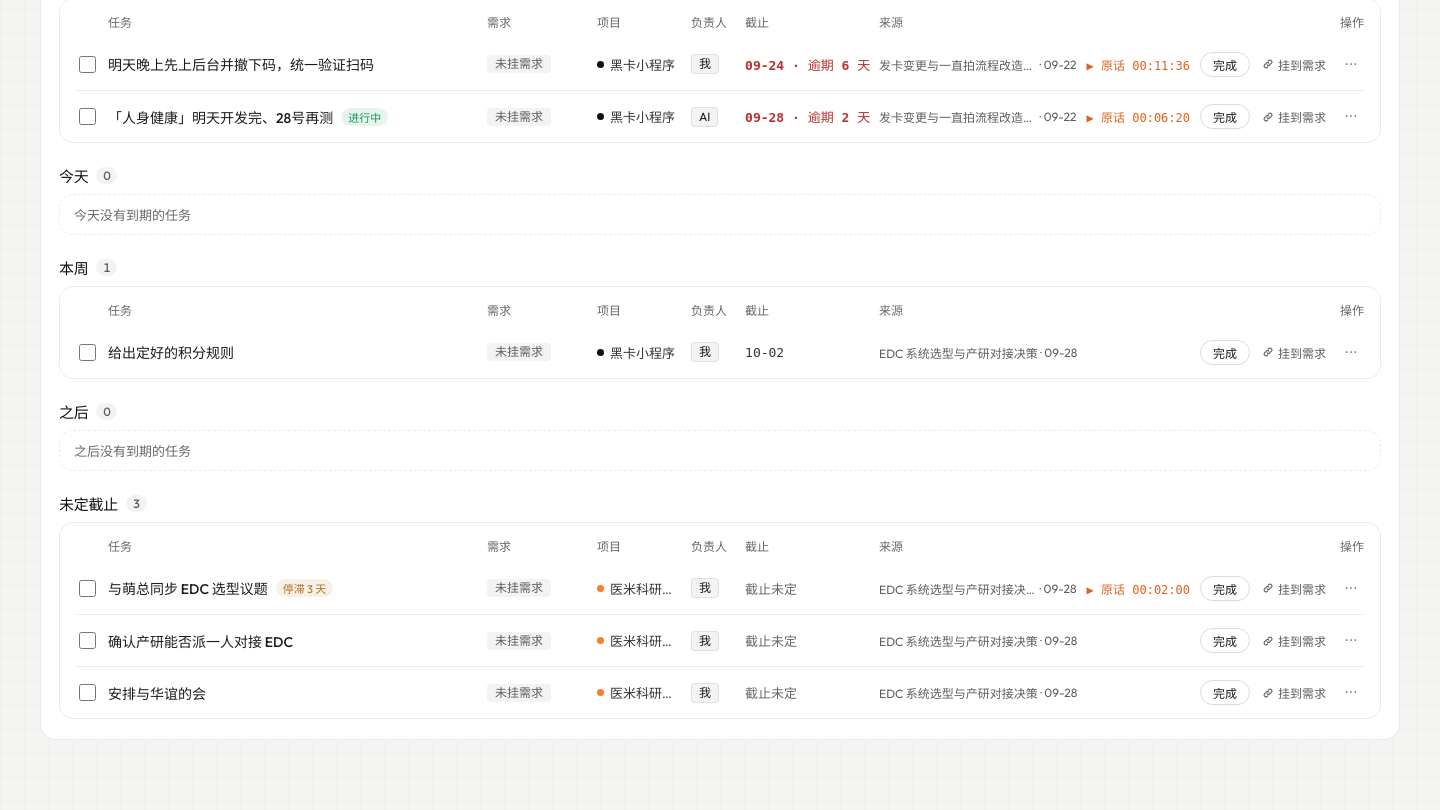
待办：完成与撤销 › 超过 10 分钟撤不了时提示原因，任务仍是已完成
(page scrolled)
Click the button with aria-label "完成「" at (1225, 692), box [1200,680,1250,705]
(page scrolled)
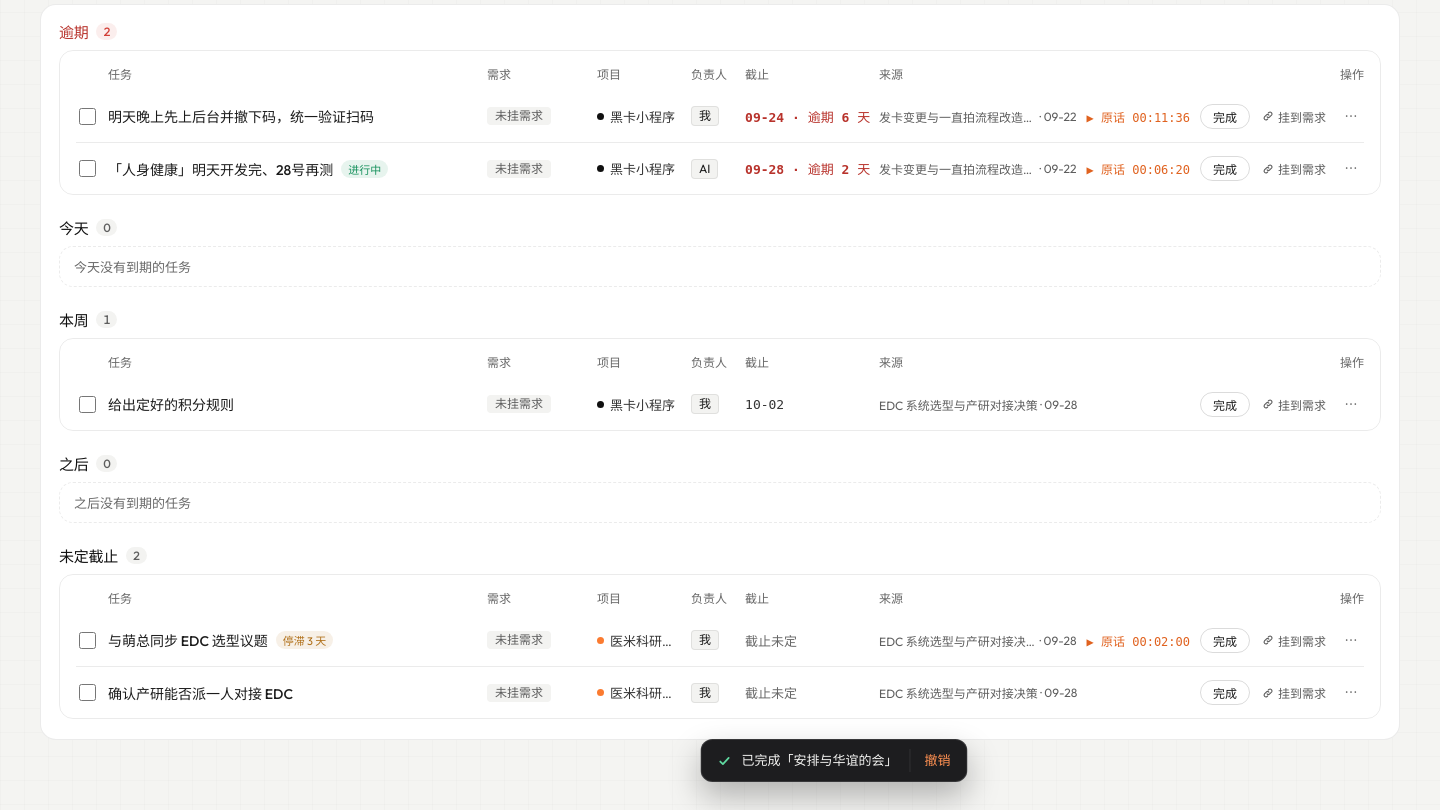
Click the button "撤销" at (934, 761), box [910,749,958,772]
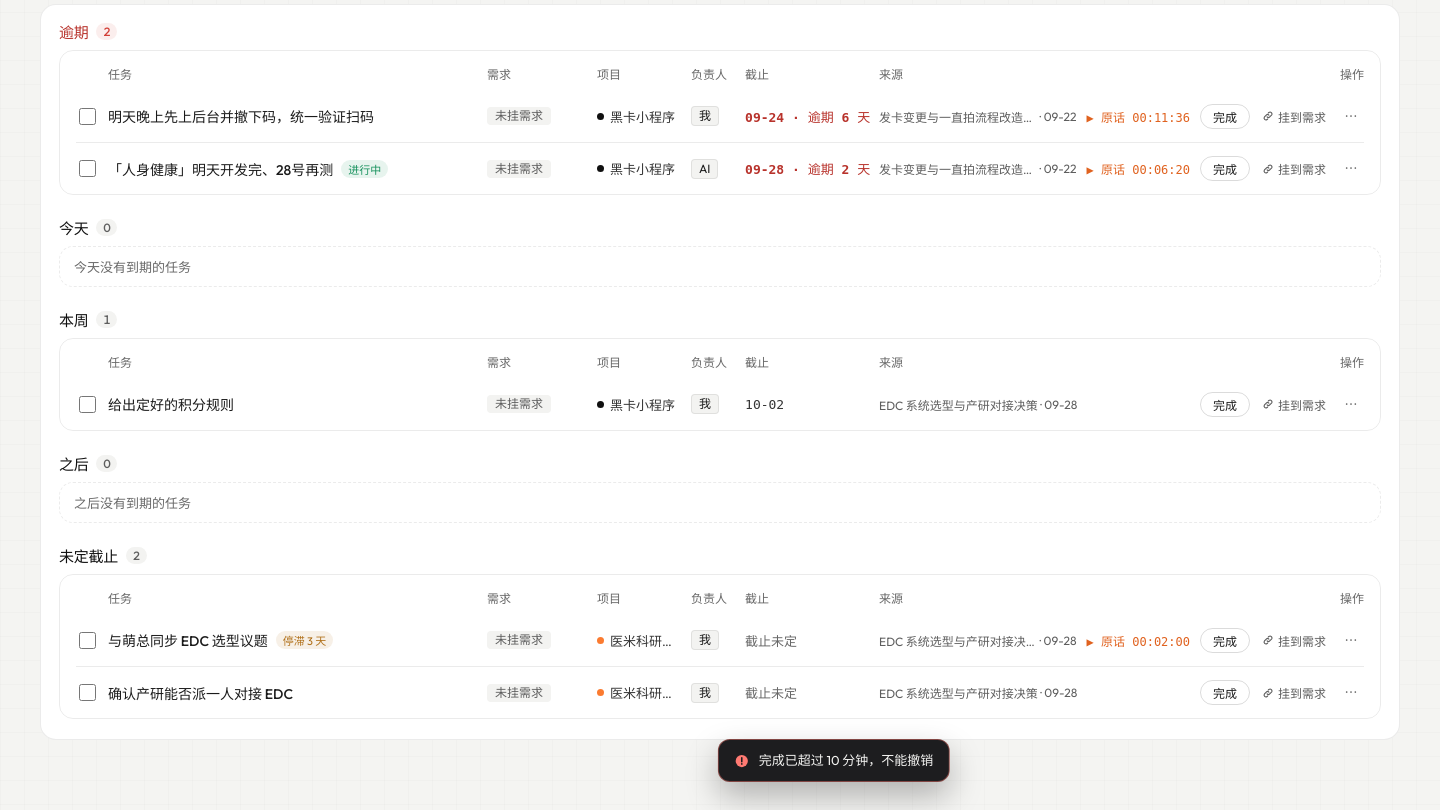
Expected: the text "完成已超过 10 分钟，不能撤销" is shown, [759,751,933,770]
